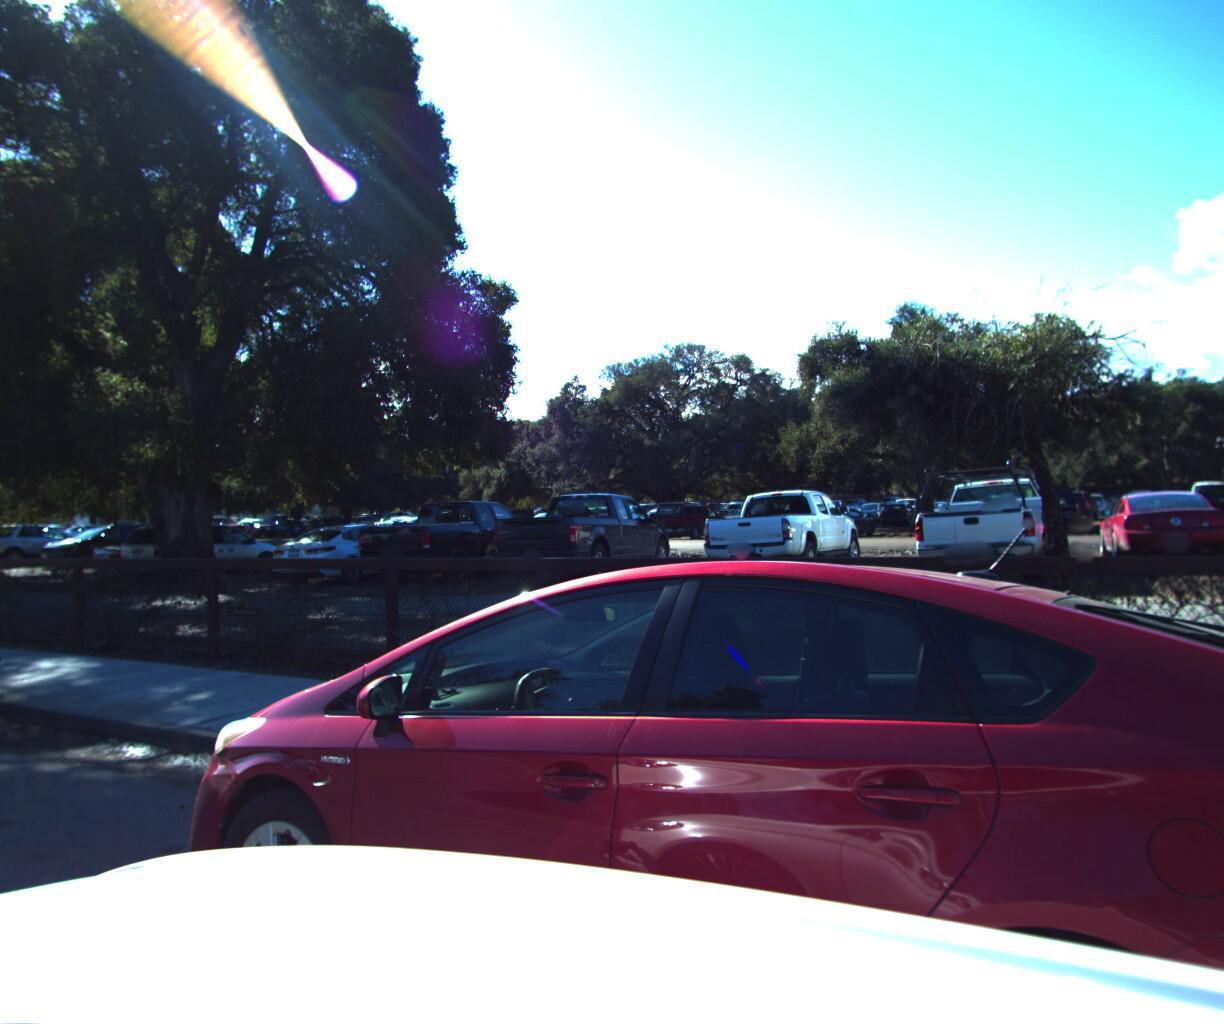car: (99, 528, 1224, 1024), (894, 453, 1077, 579), (475, 484, 685, 582), (340, 489, 556, 581), (683, 475, 870, 581), (0, 510, 58, 787), (258, 513, 445, 584), (107, 513, 290, 579), (78, 519, 274, 575)
